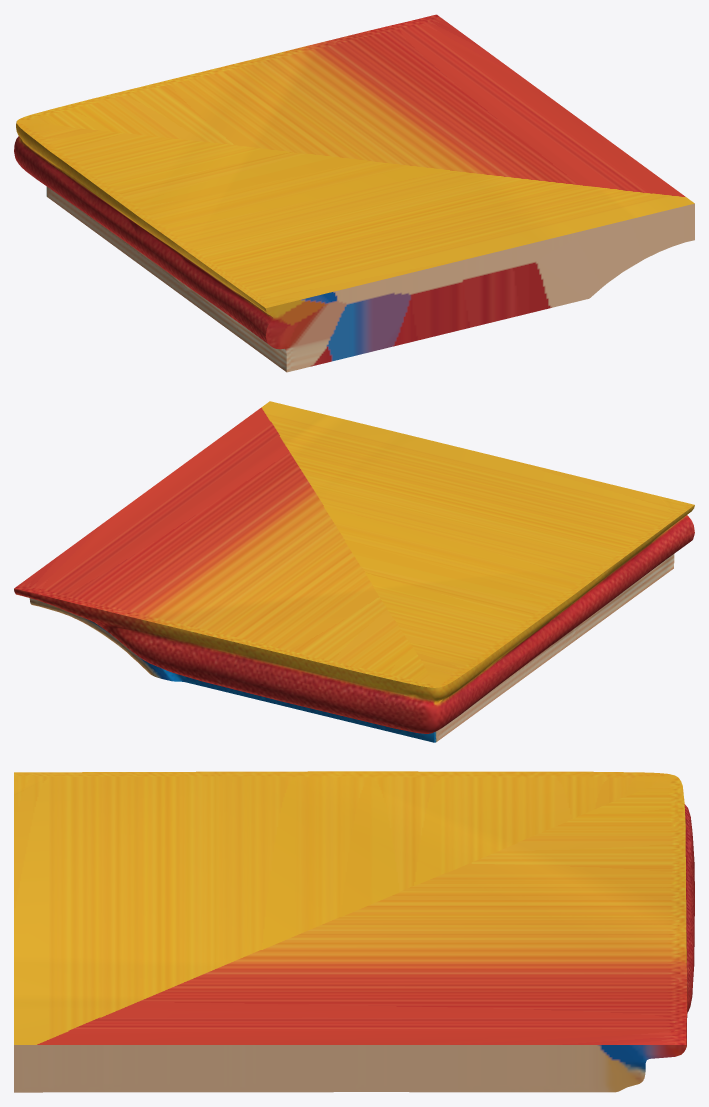
File: 11-roof-back-left.fbx
3 views of the same model, one above another, from view 1: azimuth 30°, elevation 25°; view 2: azimuth 150°, elevation 25°; view 3: azimuth 270°, elevation 25° (orthographic). The views are drawn at different scales.
Visible parts, largest first — view 1: roof-back-left; view 2: roof-back-left; view 3: roof-back-left.
Boxes of the visible parts, x1,y1,x2,y2 form: roof-back-left: (14,14,694,372); roof-back-left: (14,401,694,742); roof-back-left: (14,771,694,1092).
Bounding box in the file's own units: 6008 × 924 × 6319.
1 material, 1 textured.
